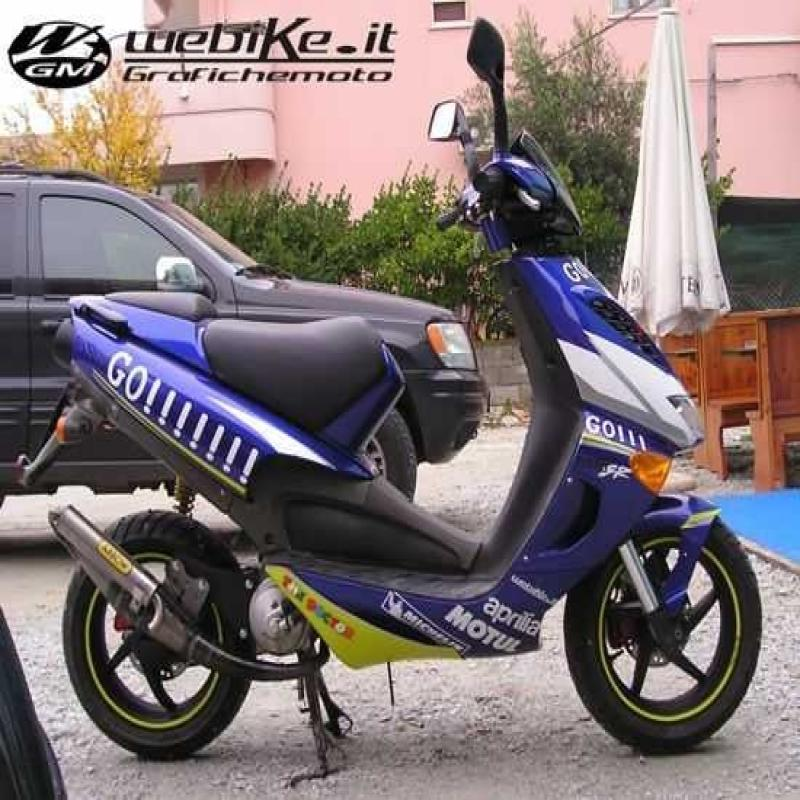bike: (39, 49, 767, 748)
